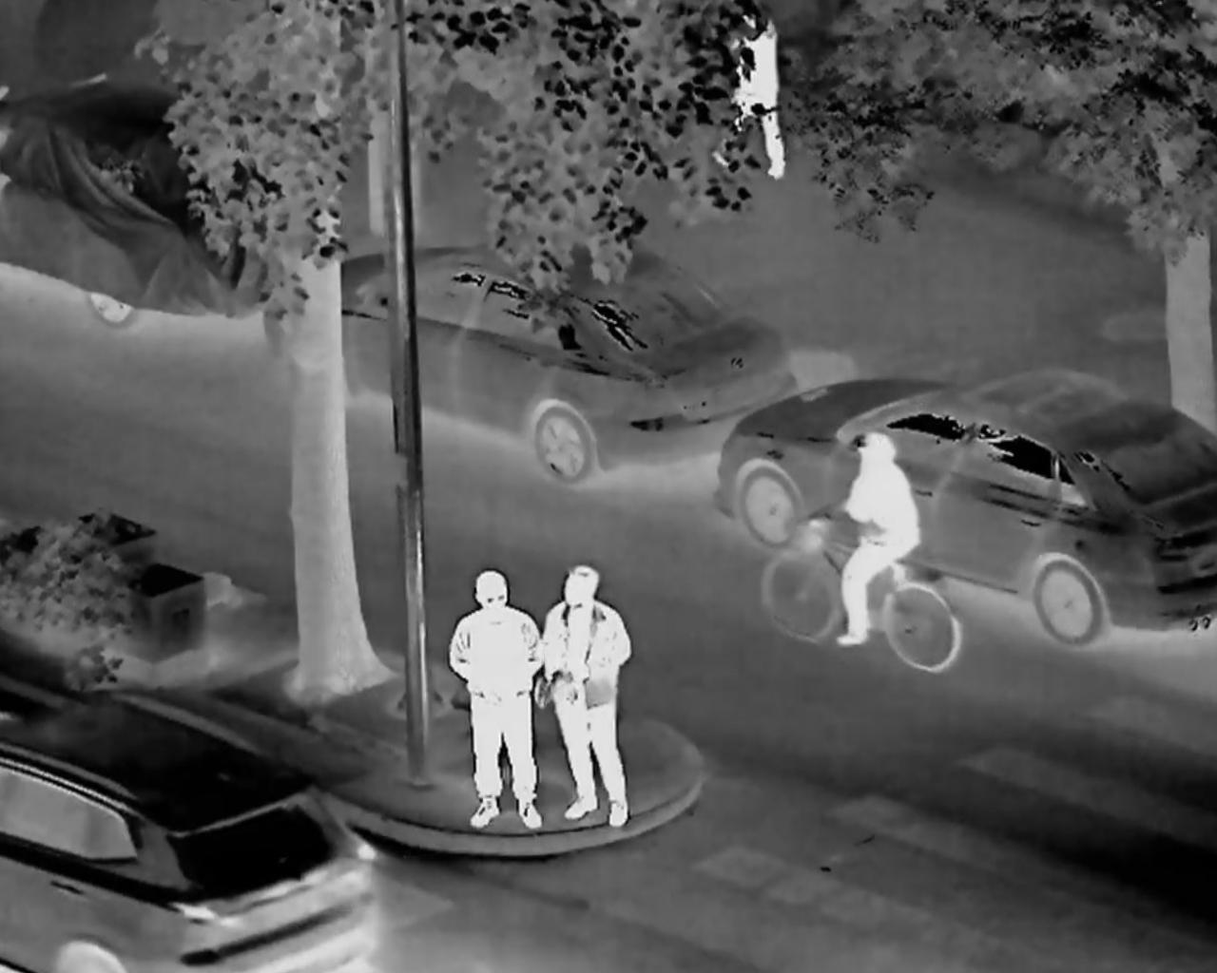person: (531, 542, 640, 832), (444, 557, 550, 824), (822, 408, 932, 647), (715, 10, 801, 189)
